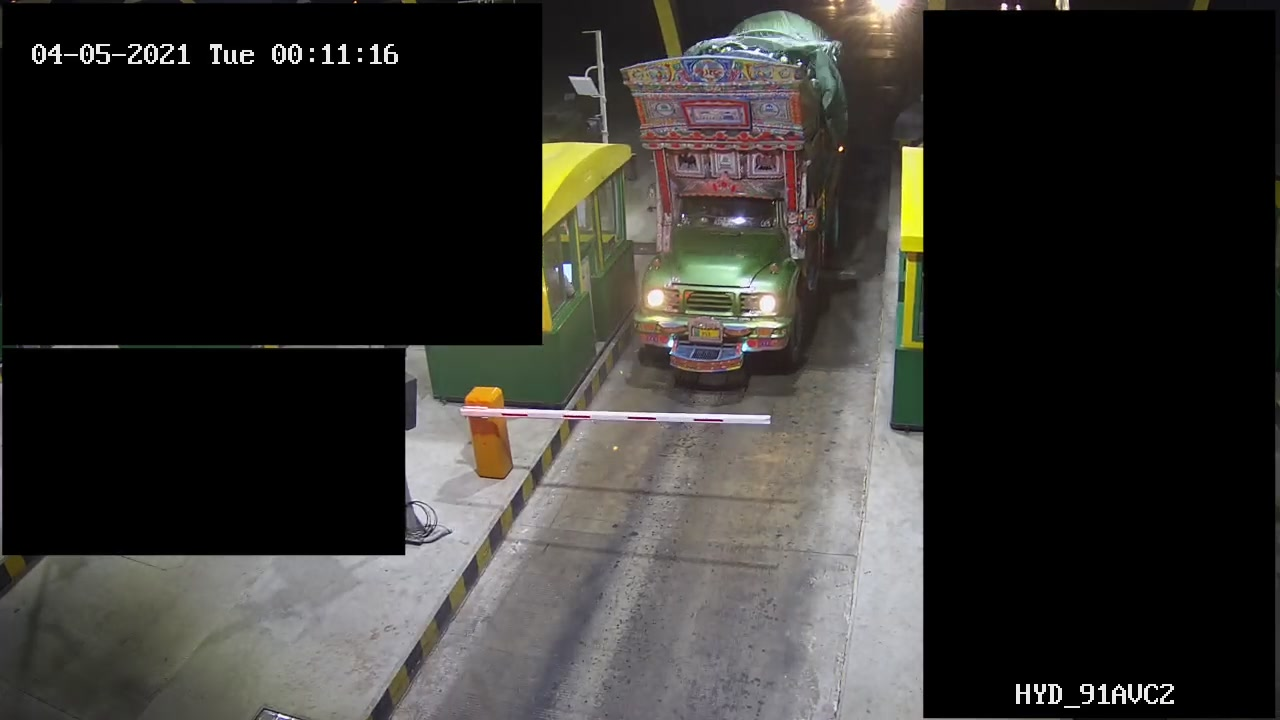F5: (627, 1, 849, 384)
